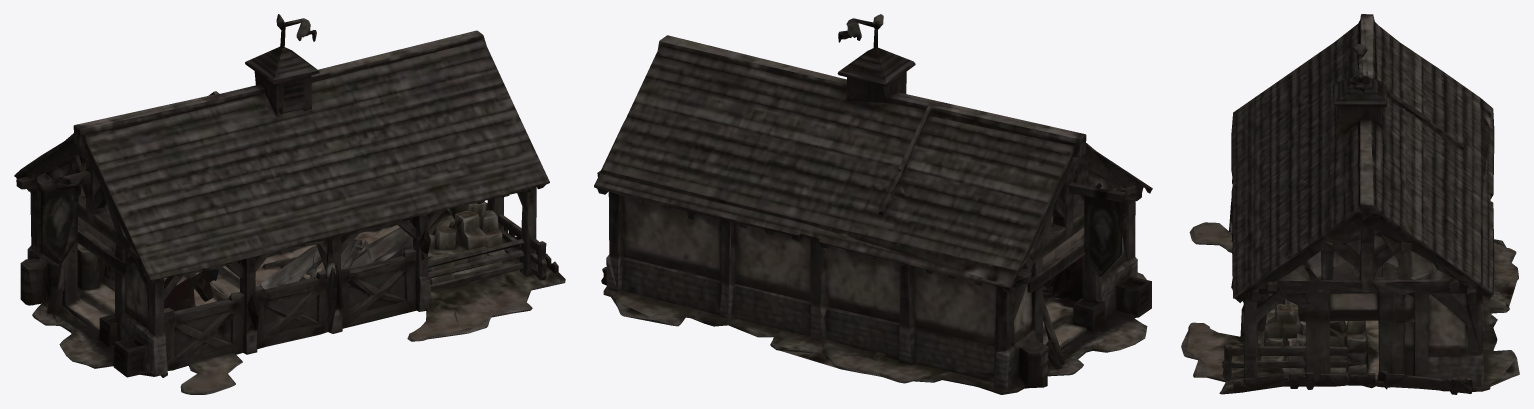
The model's file is war_stable_gutted_01.glb.
The picture shows the model from 3 angles, left to right: view 1: azimuth 30°, elevation 25°; view 2: azimuth 150°, elevation 25°; view 3: azimuth 270°, elevation 25°; orthographic projection. The views are drawn at different scales.
Visible parts, largest first — view 1: geometry_0; view 2: geometry_0; view 3: geometry_0.
Part boxes in pixels (left/top/right/bottom): geometry_0: left=14, top=14, right=565, bottom=394; geometry_0: left=594, top=14, right=1152, bottom=394; geometry_0: left=1181, top=14, right=1519, bottom=394.
Size of the model in its own units: 0.9993 by 0.5818 by 0.6806.
1 material, 1 textured.
